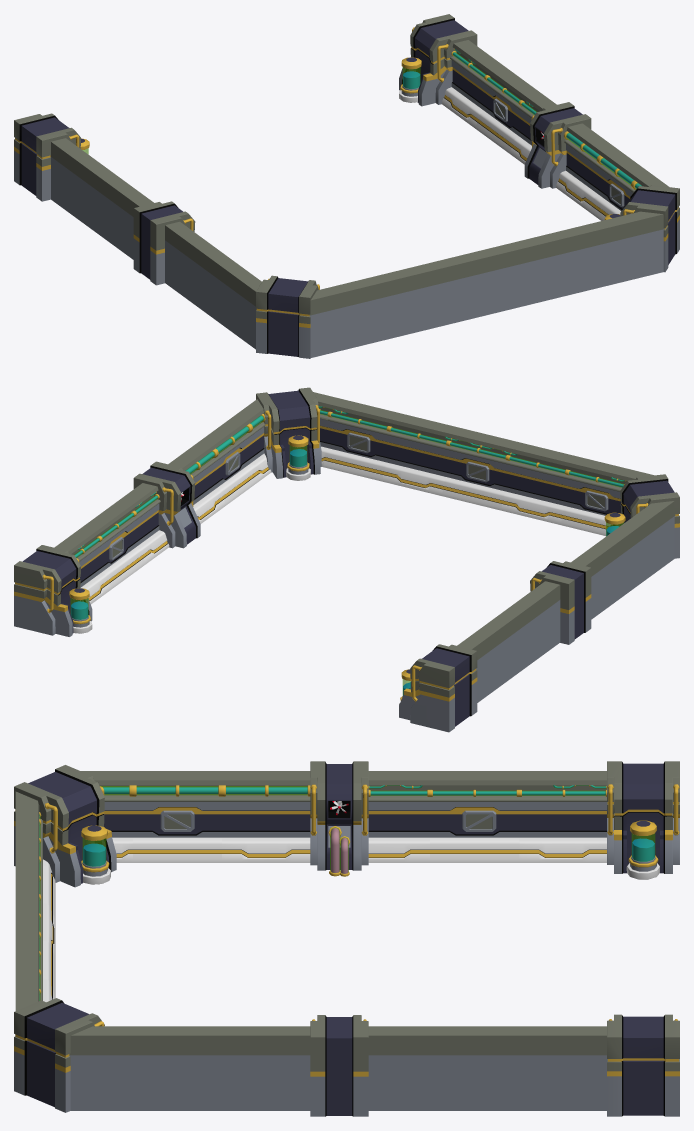
The model's file is Level18.fbx.
3 views of the same model, one above another, from view 1: azimuth 30°, elevation 25°; view 2: azimuth 150°, elevation 25°; view 3: azimuth 270°, elevation 25° (orthographic). The views are drawn at different scales.
Parts seen in each view (by area): view 1: Base (×24), Bottle; view 2: Base (×24), Bottle (×2); view 3: Base (×23), Bottle (×2), Pipe1 (×3), Cage (×2), Pipe2, Pipe3.
Part boxes in pixels (bbox=[...]): Base (×24): bbox=[14, 14, 679, 358]; Bottle: bbox=[399, 57, 421, 102]; Base (×24): bbox=[14, 387, 679, 732]; Bottle (×2): bbox=[69, 435, 310, 633]; Base (×23): bbox=[14, 761, 679, 1116]; Bottle (×2): bbox=[81, 820, 659, 884]; Pipe1 (×3): bbox=[133, 785, 341, 876]; Cage (×2): bbox=[160, 810, 496, 831]; Pipe2: bbox=[430, 789, 519, 796]; Pipe3: bbox=[520, 789, 606, 796].
Size of the model in its own units: 537 by 73.12 by 547.
